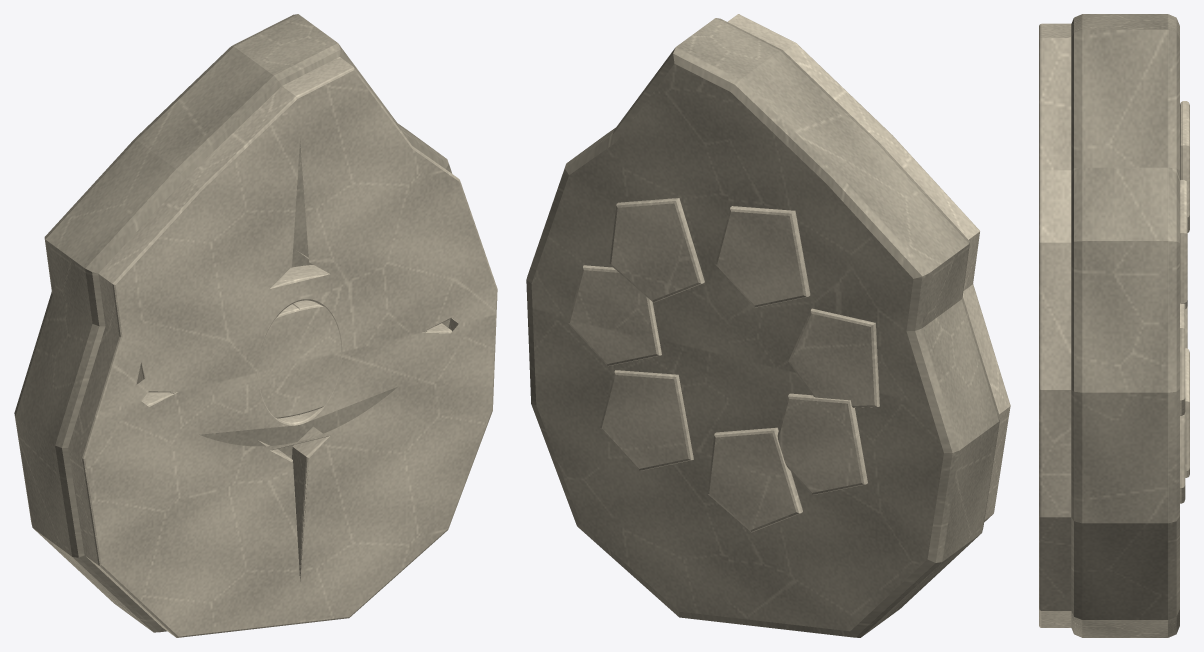
Rendered from mind_rune.glb.
3 views of the same model, side by side, from view 1: azimuth 30°, elevation 25°; view 2: azimuth 150°, elevation 25°; view 3: azimuth 270°, elevation 25° (orthographic). The views are drawn at different scales.
Visible parts, largest first — view 1: mind_rune fractured mineral, mind_rune weathered fracture edges; view 2: mind_rune weathered fracture edges, mind_rune fractured mineral; view 3: mind_rune weathered fracture edges, mind_rune fractured mineral.
Part boxes in pixels (left/top/right/bottom): mind_rune fractured mineral: left=68, top=57, right=497, bottom=637; mind_rune weathered fracture edges: left=14, top=14, right=451, bottom=632; mind_rune weathered fracture edges: left=526, top=18, right=1000, bottom=637; mind_rune fractured mineral: left=568, top=14, right=1010, bottom=532; mind_rune weathered fracture edges: left=1071, top=14, right=1179, bottom=637; mind_rune fractured mineral: left=1039, top=23, right=1189, bottom=627.
Bounding box in the file's own units: 0.1567 × 0.1972 × 0.0441.
3 materials, 3 textured.
